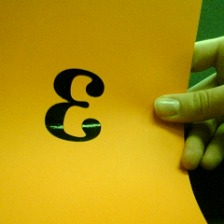orange3: (41, 65, 110, 147)
